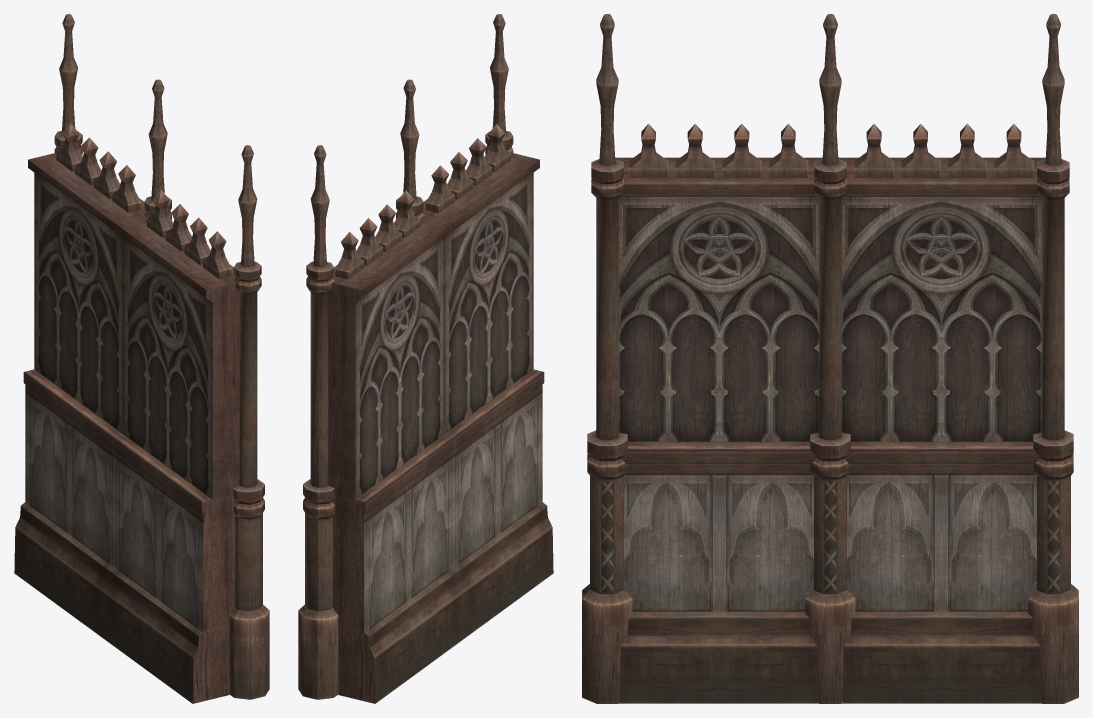
The model's file is bg_lut_lucastle_churchinprop02_sm_ysi.FBX.
The picture shows the model from 3 angles, left to right: view 1: azimuth 30°, elevation 25°; view 2: azimuth 150°, elevation 25°; view 3: azimuth 270°, elevation 25°; orthographic projection. The views are drawn at different scales.
Parts seen in each view (by area): view 1: bg_lut_lucastle_churchinprop02_sm_ysi; view 2: bg_lut_lucastle_churchinprop02_sm_ysi; view 3: bg_lut_lucastle_churchinprop02_sm_ysi.
Part boxes in pixels (<box>): bg_lut_lucastle_churchinprop02_sm_ysi: <box>14,14,269,703</box>; bg_lut_lucastle_churchinprop02_sm_ysi: <box>298,14,553,703</box>; bg_lut_lucastle_churchinprop02_sm_ysi: <box>582,14,1078,703</box>.
Bounding box in the file's own units: 77.81 × 561 × 372.
